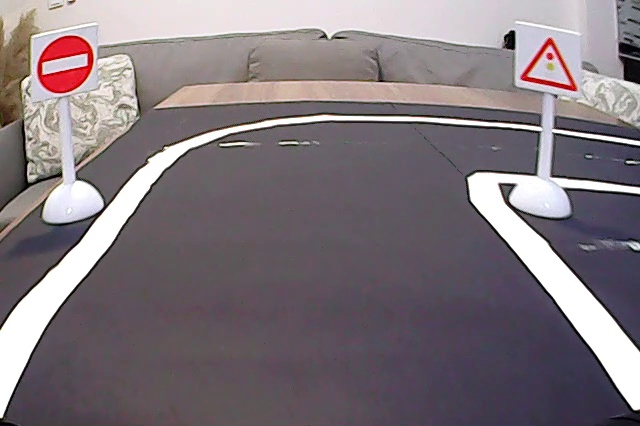do not enter: (34, 31, 98, 98)
red light: (514, 30, 581, 97)
